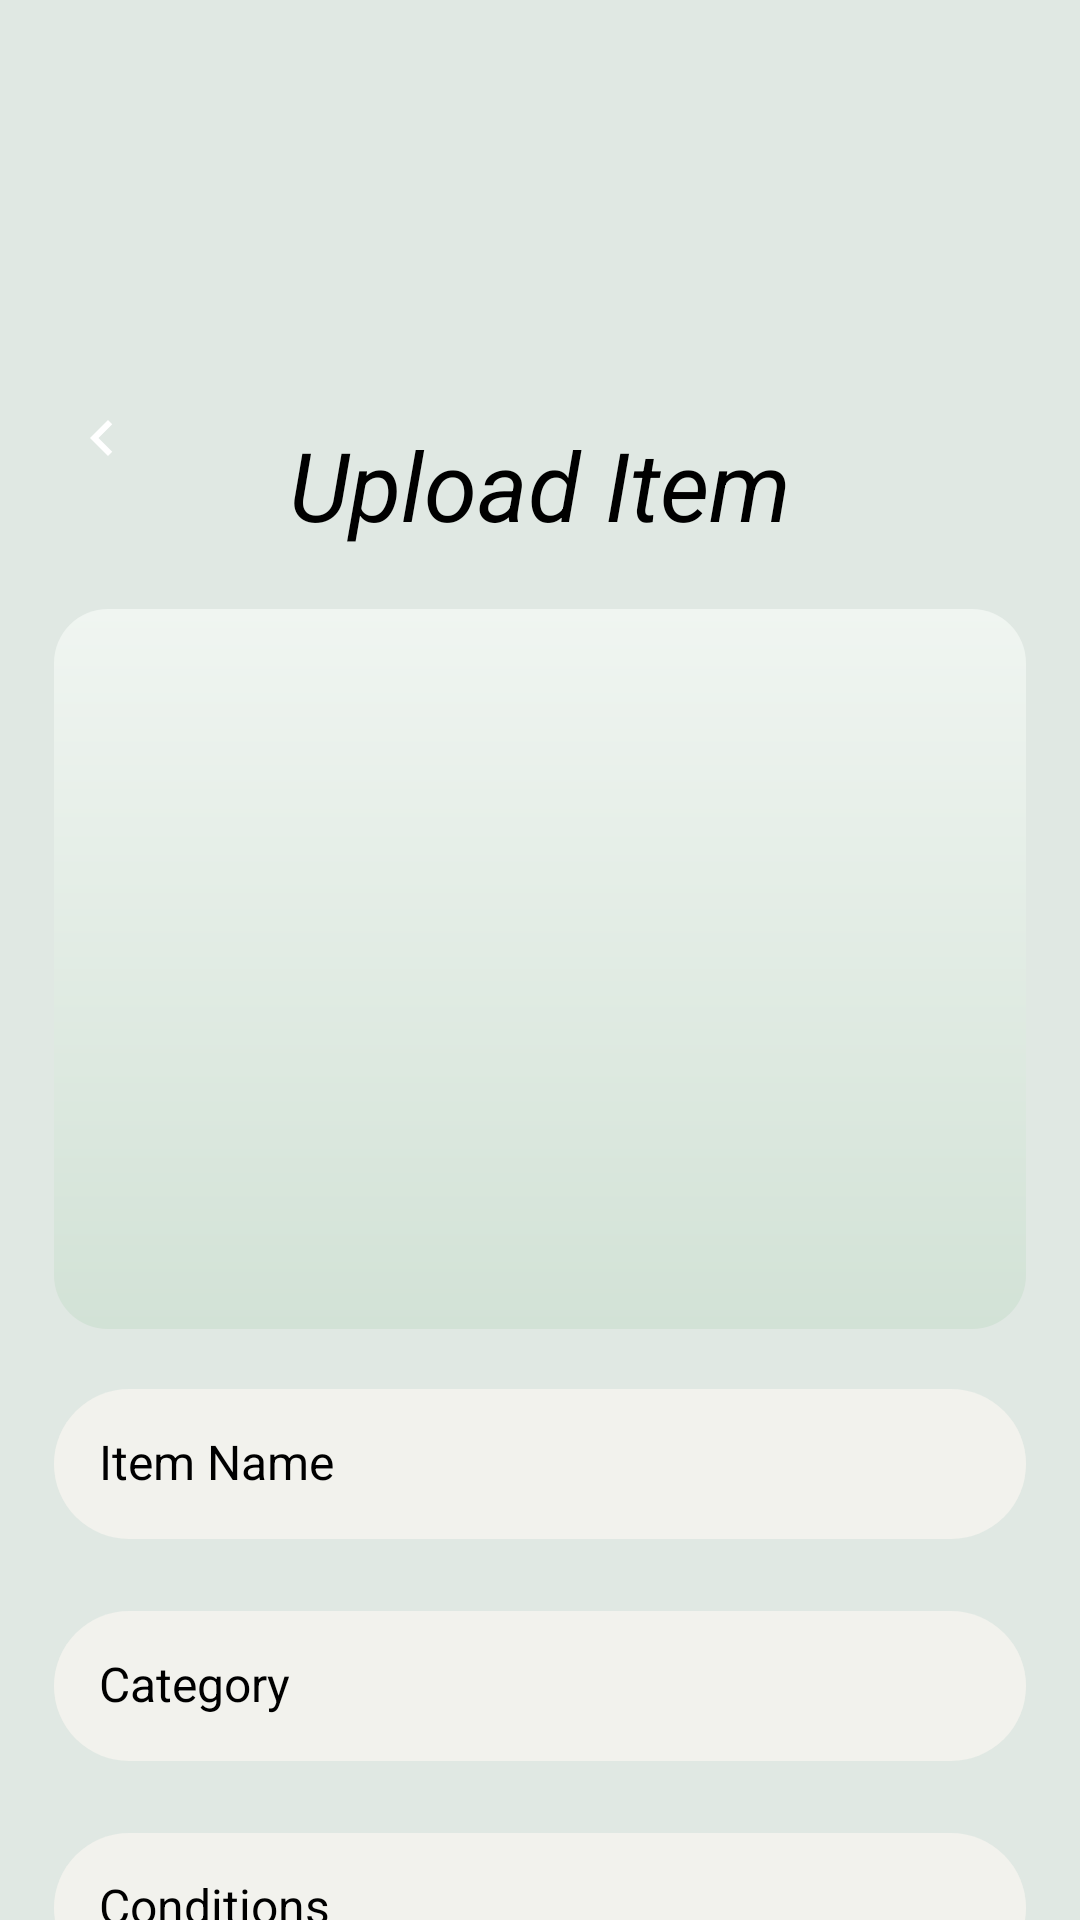

Named icons in this screenshot (1080px x 1920px) and their centers, point (x, y):
chevron left: point (101, 438)
